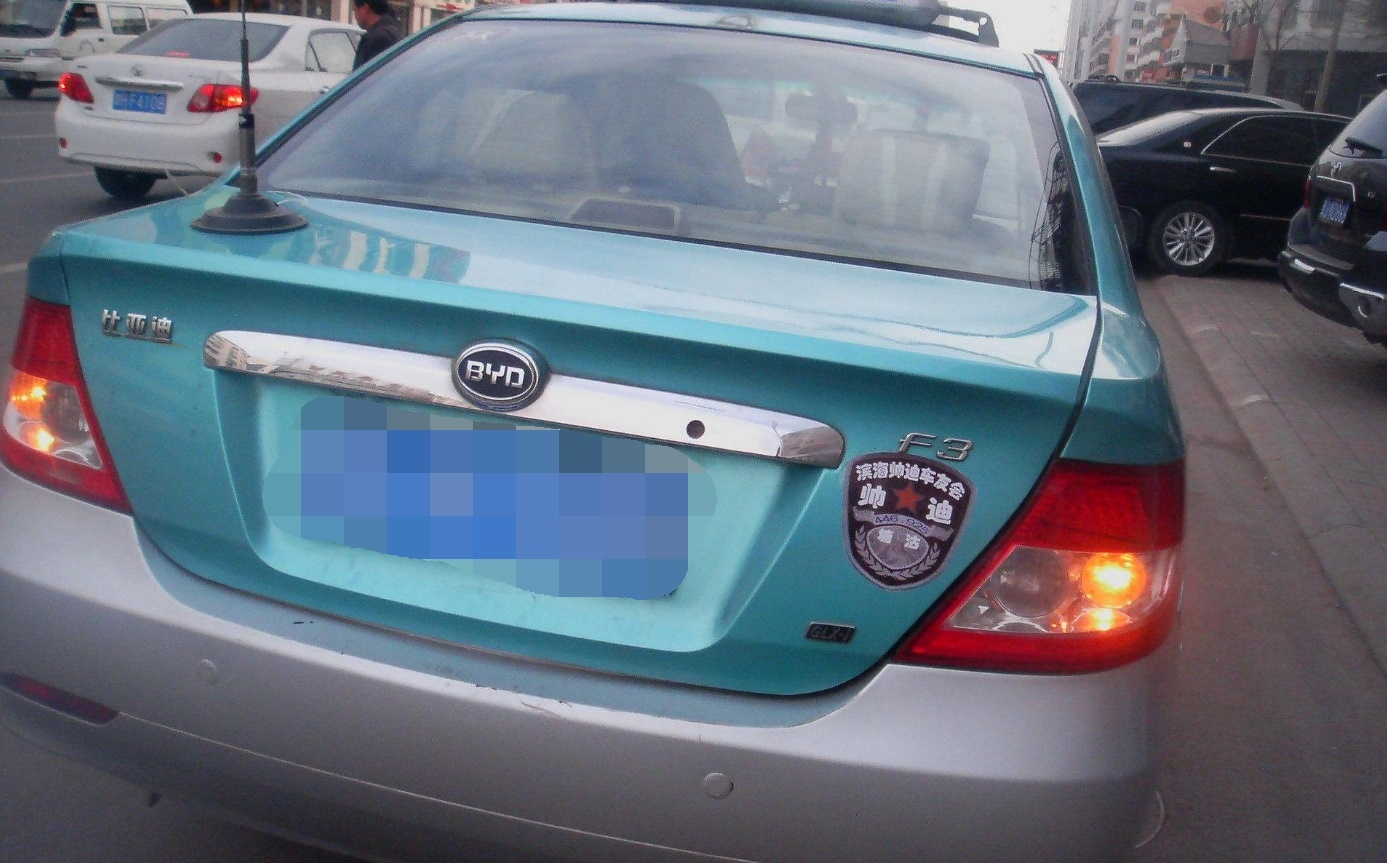taxi: (1, 1, 1172, 852)
